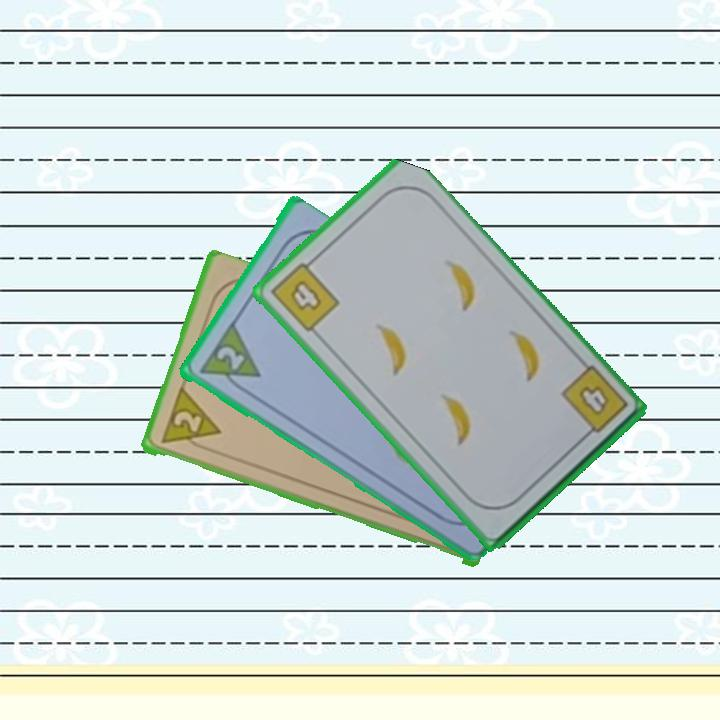2p: (194, 320, 263, 398), (156, 386, 223, 454)
4b: (266, 254, 343, 335), (557, 362, 631, 444)
